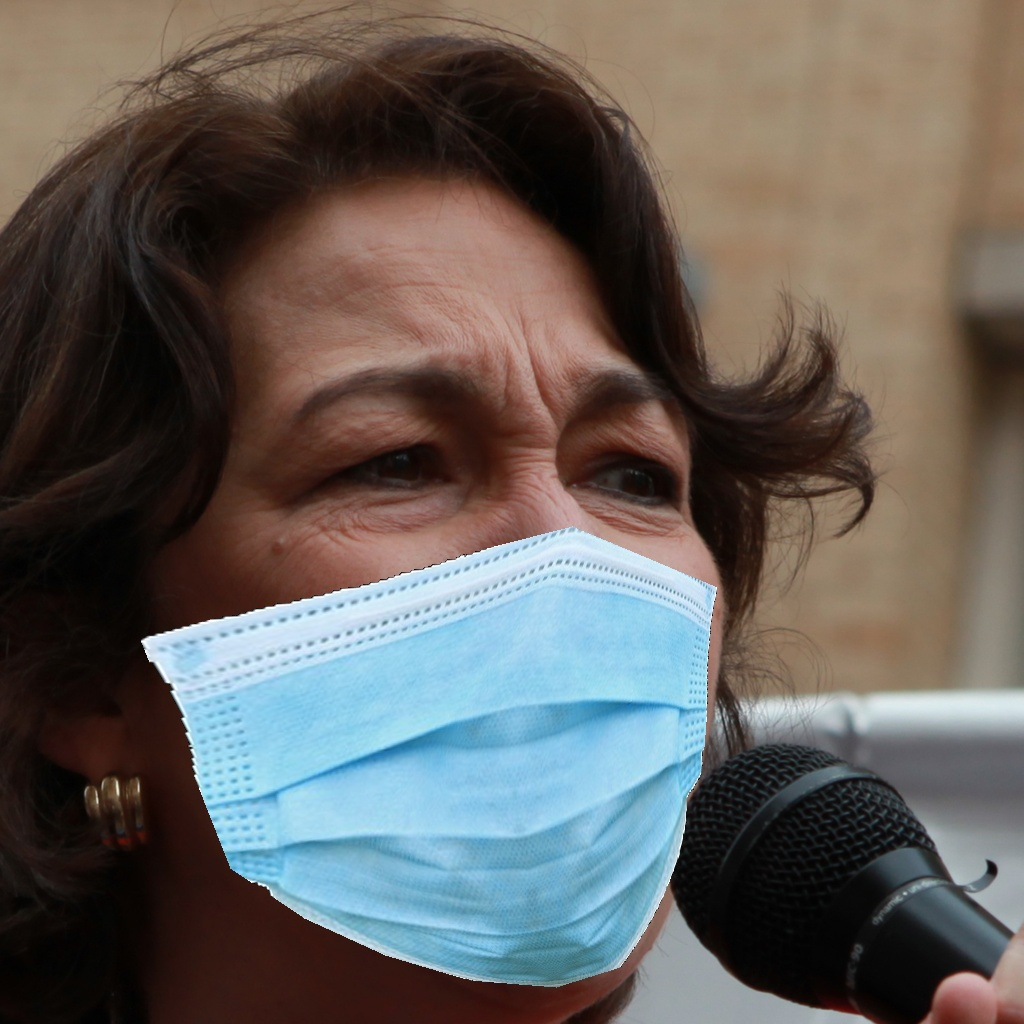Mask: (139, 346, 731, 989)
